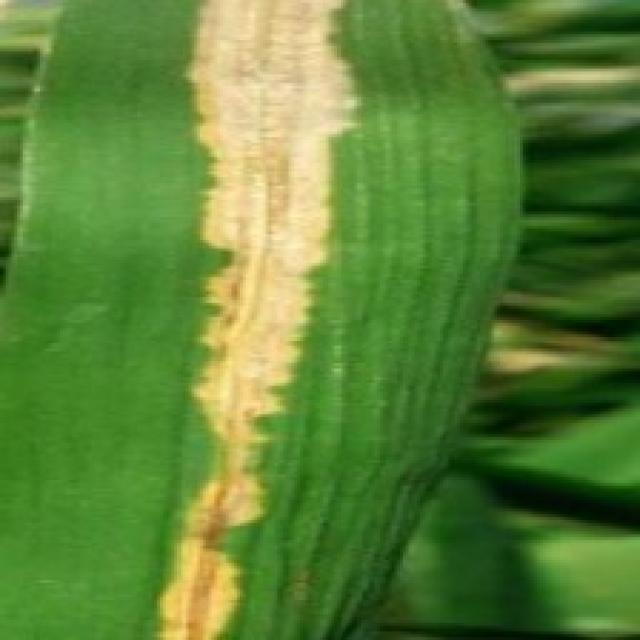Rice___Bacterial_Leaf_Blight: (0, 0, 531, 637)
